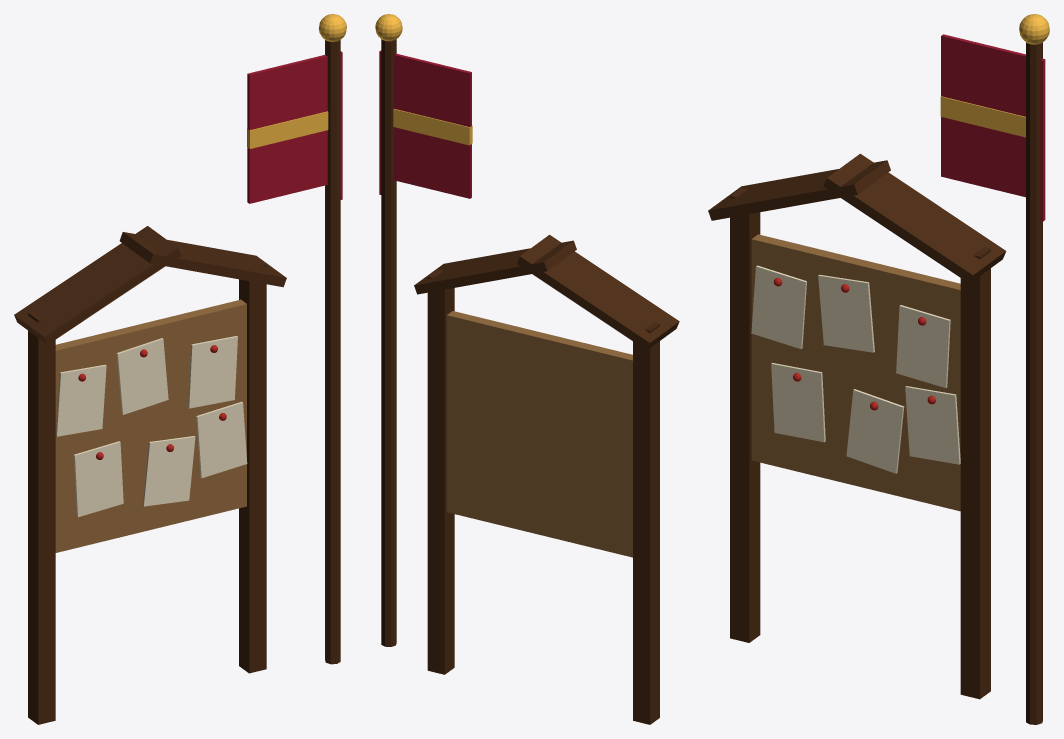
File: shop_guild_yard.gltf
3 views of the same model, side by side, from view 1: azimuth 30°, elevation 25°; view 2: azimuth 150°, elevation 25°; view 3: azimuth 330°, elevation 25° (orthographic). The views are drawn at different scales.
Visible parts, largest first — view 1: ShopGuildYardShopWood, ShopGuildYardShopWoodLight, ShopGuildYardShopCream, ShopGuildYardShopCloth, ShopGuildYardShopGold; view 2: ShopGuildYardShopWood, ShopGuildYardShopWoodLight, ShopGuildYardShopCloth, ShopGuildYardShopGold; view 3: ShopGuildYardShopWood, ShopGuildYardShopWoodLight, ShopGuildYardShopCream, ShopGuildYardShopCloth, ShopGuildYardShopGold.
Part boxes in pixels (left/top/right/bottom): ShopGuildYardShopWood: left=14, top=40, right=340, bottom=724; ShopGuildYardShopWoodLight: left=55, top=299, right=246, bottom=552; ShopGuildYardShopCream: left=55, top=336, right=247, bottom=517; ShopGuildYardShopCloth: left=247, top=51, right=342, bottom=203; ShopGuildYardShopGold: left=247, top=14, right=346, bottom=148; ShopGuildYardShopWood: left=381, top=39, right=679, bottom=724; ShopGuildYardShopWoodLight: left=446, top=311, right=632, bottom=557; ShopGuildYardShopCloth: left=379, top=50, right=471, bottom=198; ShopGuildYardShopGold: left=375, top=14, right=472, bottom=145; ShopGuildYardShopWood: left=708, top=42, right=1042, bottom=724; ShopGuildYardShopWoodLight: left=751, top=234, right=960, bottom=511; ShopGuildYardShopCream: left=751, top=265, right=960, bottom=473; ShopGuildYardShopCloth: left=941, top=34, right=1045, bottom=221; ShopGuildYardShopGold: left=940, top=14, right=1049, bottom=137.
Size of what is drawn, in the model's own units: 1.74 by 3.51 by 0.32.
